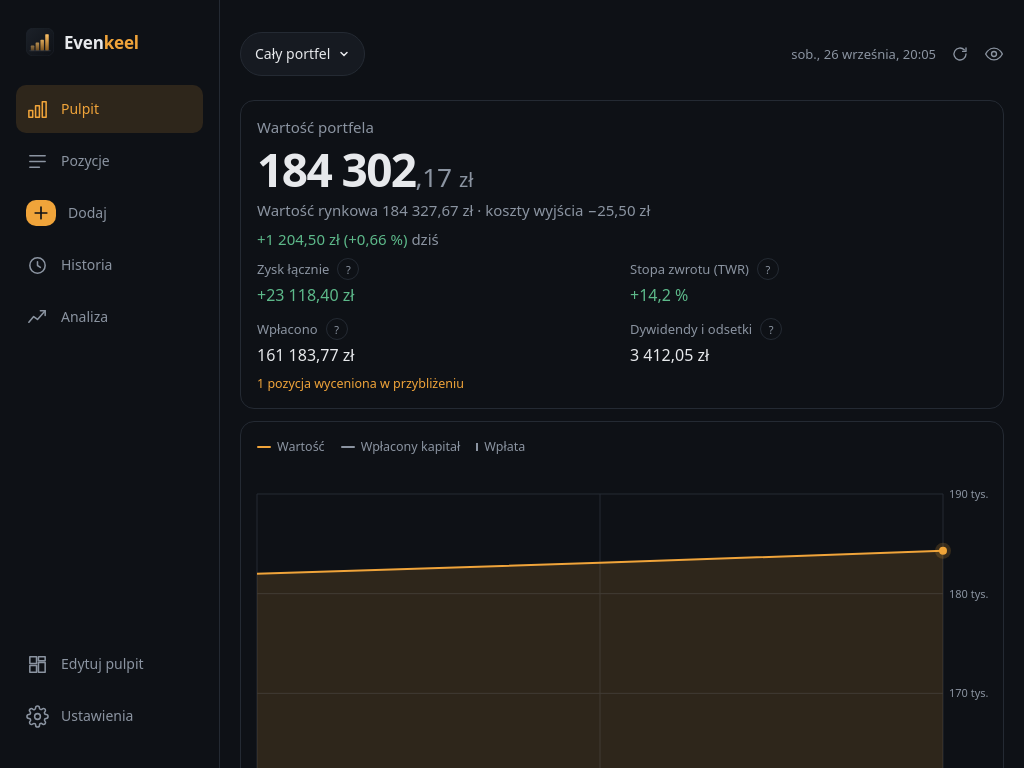
Test: price refresh › says when the refresh failed and keeps the numbers
The image size is (1024, 768).
What coordinates should you click on to do the following:
click the button named "Odśwież ceny"
I would click on:
 (960, 54)
Its box is [938,32,982,76].
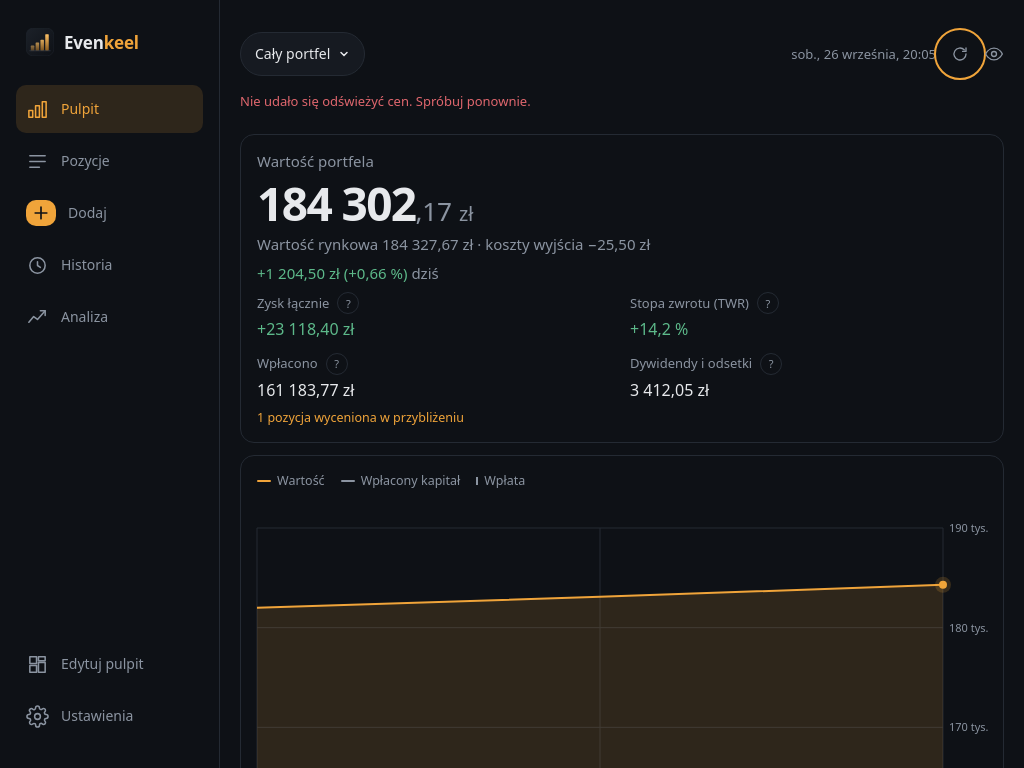
Expected: the text "Wartość portfela" is shown, [257,151,374,171]
Expected: the message reads "Nie udało się odświeżyć cen. Spróbuj ponownie.", [240,92,531,110]
